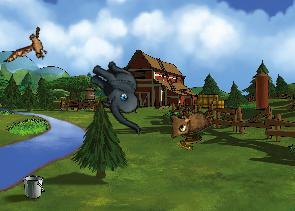eagle: (3, 19, 56, 77)
elephant: (75, 55, 162, 135)
owl: (162, 97, 216, 143)
